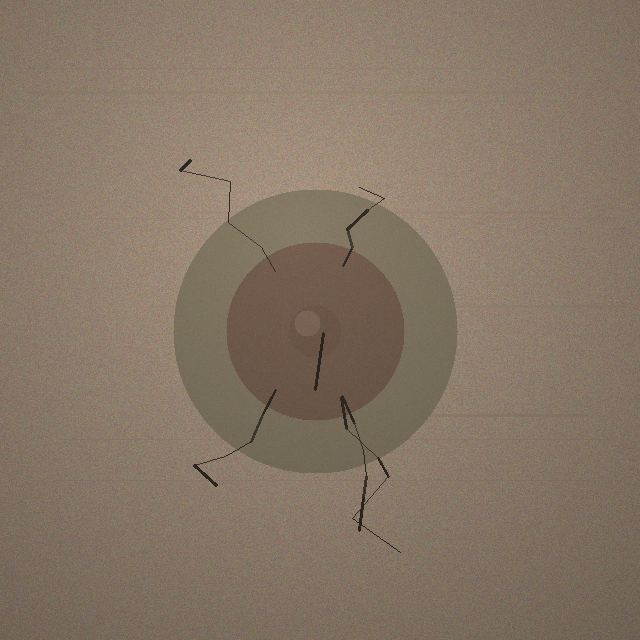crack: (173, 189, 457, 473)
